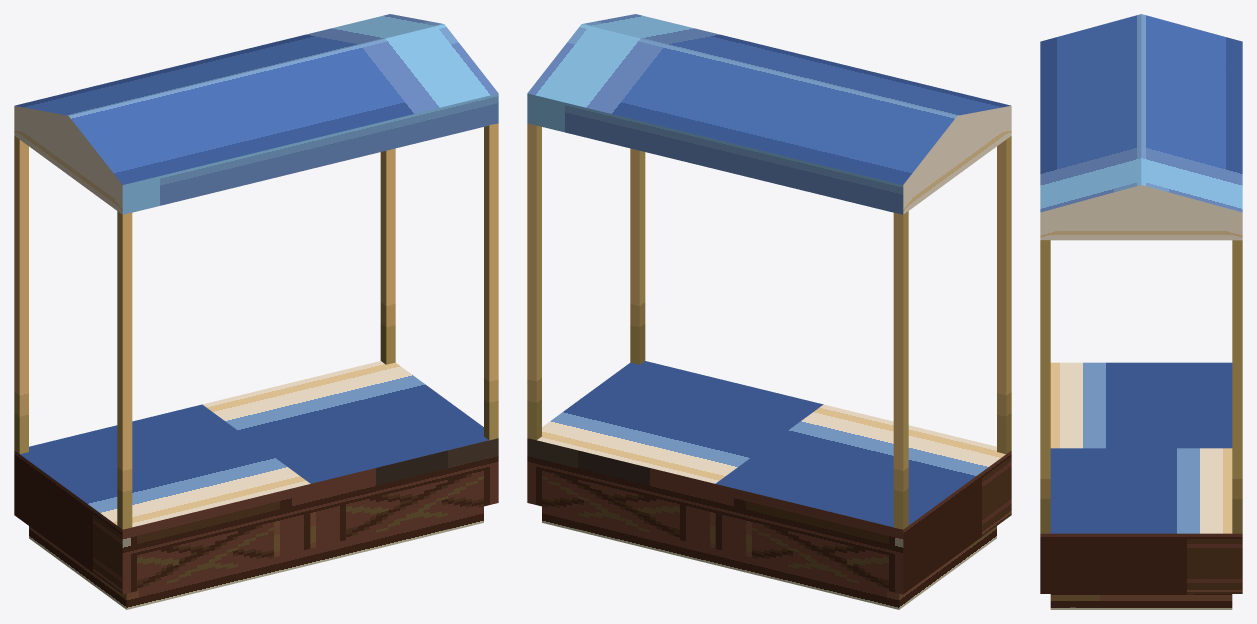
3 views of the same model, side by side, from view 1: azimuth 30°, elevation 25°; view 2: azimuth 150°, elevation 25°; view 3: azimuth 270°, elevation 25° (orthographic). The views are drawn at different scales.
Parts seen in each view (by area): view 1: 3641kg_case_08; view 2: 3641kg_case_08; view 3: 3641kg_case_08.
Part boxes in pixels (x1,y1,x2,y2): 3641kg_case_08: (14,14,498,609); 3641kg_case_08: (527,14,1011,609); 3641kg_case_08: (1040,14,1242,609).
Size of the model in its own units: 2 by 2.34 by 1.
Materials: 2 (2 with a texture image).
